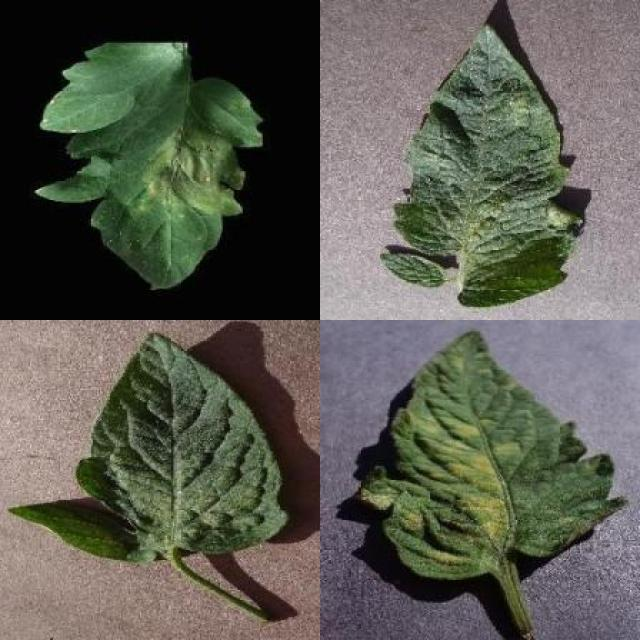Late Blight: (26, 38, 266, 292)
Leaf Mold: (359, 328, 627, 583)
Spider Mites: (394, 21, 580, 306), (75, 332, 288, 555)
